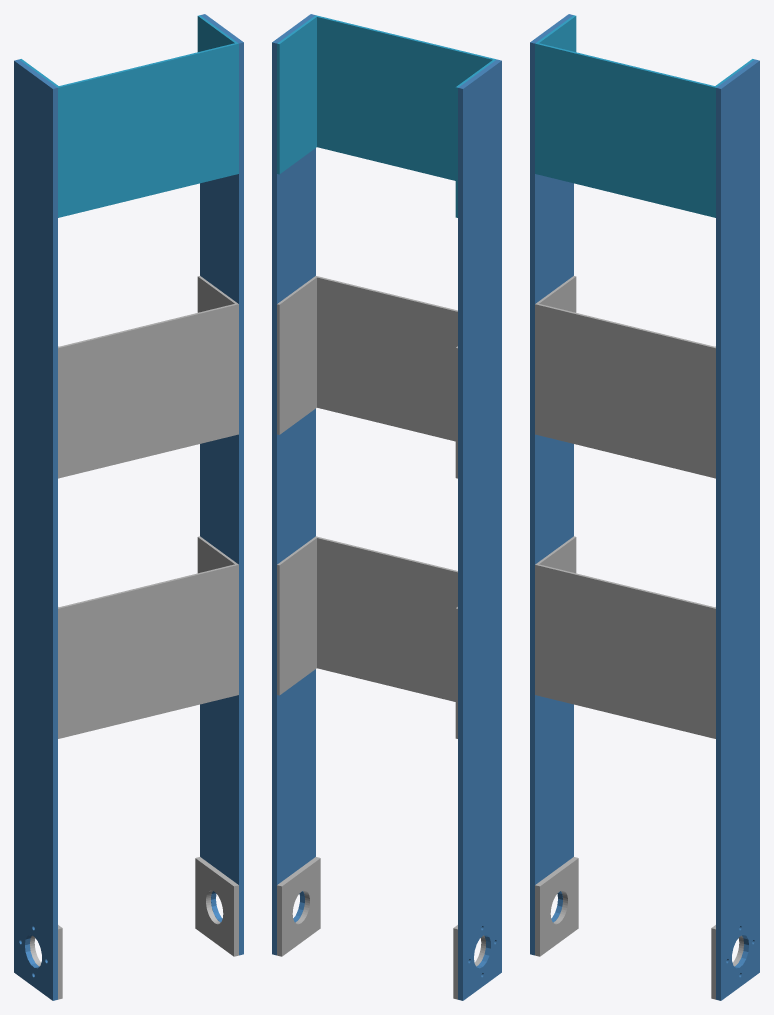
The model's file is second_link.obj.
The picture shows the model from 3 angles, left to right: view 1: azimuth 30°, elevation 25°; view 2: azimuth 150°, elevation 25°; view 3: azimuth 330°, elevation 25°; orthographic projection.
Visible parts, largest first — view 1: メッシュ フィーチャ1_1, メッシュ フィーチャ1_3, メッシュ フィーチャ1_5, メッシュ フィーチャ1_6, メッシュ フィーチャ1_7, メッシュ フィーチャ1_4, メッシュ フィーチャ1_2; view 2: メッシュ フィーチャ1_1, メッシュ フィーチャ1_3, メッシュ フィーチャ1_5, メッシュ フィーチャ1_6, メッシュ フィーチャ1_7, メッシュ フィーチャ1_4, メッシュ フィーチャ1_2; view 3: メッシュ フィーチャ1_7, メッシュ フィーチャ1_3, メッシュ フィーチャ1_5, メッシュ フィーチャ1_6, メッシュ フィーチャ1_1, メッシュ フィーチャ1_2, メッシュ フィーチャ1_4.
Boxes of the visible parts, left/top/right/bottom form: メッシュ フィーチャ1_1: left=14, top=59, right=57, bottom=1000; メッシュ フィーチャ1_3: left=19, top=15, right=238, bottom=217; メッシュ フィーチャ1_5: left=58, top=536, right=238, bottom=738; メッシュ フィーチャ1_6: left=58, top=276, right=238, bottom=478; メッシュ フィーチャ1_7: left=200, top=14, right=243, bottom=955; メッシュ フィーチャ1_4: left=195, top=857, right=238, bottom=956; メッシュ フィーチャ1_2: left=30, top=925, right=62, bottom=999; メッシュ フィーチャ1_1: left=458, top=59, right=501, bottom=1000; メッシュ フィーチャ1_3: left=277, top=15, right=496, bottom=217; メッシュ フィーチャ1_5: left=277, top=536, right=457, bottom=738; メッシュ フィーチャ1_6: left=277, top=276, right=457, bottom=478; メッシュ フィーチャ1_7: left=272, top=14, right=315, bottom=955; メッシュ フィーチャ1_4: left=277, top=857, right=320, bottom=956; メッシュ フィーチャ1_2: left=453, top=925, right=485, bottom=999; メッシュ フィーチャ1_7: left=716, top=59, right=759, bottom=1000; メッシュ フィーチャ1_3: left=535, top=15, right=754, bottom=217; メッシュ フィーチャ1_5: left=535, top=536, right=715, bottom=738; メッシュ フィーチャ1_6: left=535, top=276, right=715, bottom=478; メッシュ フィーチャ1_1: left=530, top=14, right=573, bottom=955; メッシュ フィーチャ1_2: left=535, top=857, right=578, bottom=956; メッシュ フィーチャ1_4: left=711, top=925, right=743, bottom=999.
Size of the model in its own units: 154 by 700 by 54.
